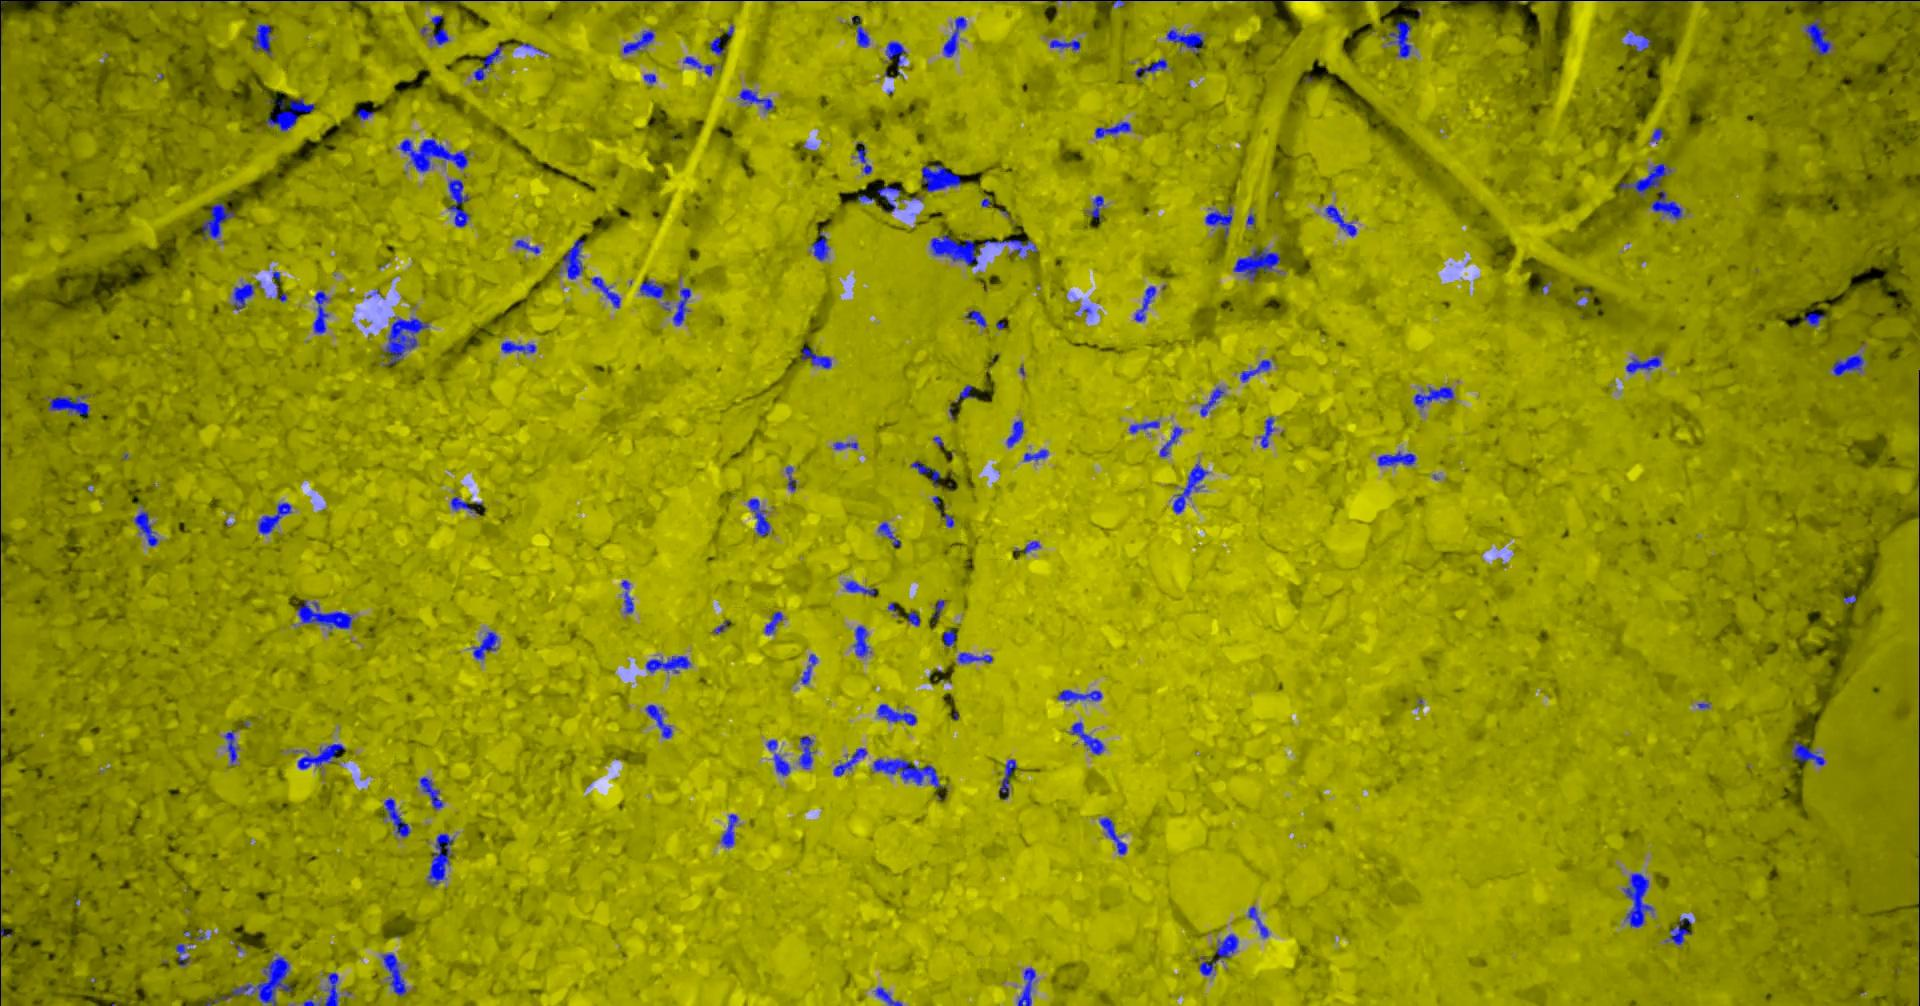ant: (232, 956, 293, 1005), (400, 138, 469, 171), (383, 316, 430, 363), (874, 758, 945, 788), (1175, 464, 1210, 513), (267, 97, 316, 131), (1622, 163, 1672, 196), (1200, 934, 1239, 976), (932, 234, 983, 265), (1625, 873, 1655, 927), (298, 600, 354, 627), (1236, 248, 1281, 279), (428, 833, 455, 885), (298, 743, 347, 768), (203, 202, 236, 239), (303, 972, 340, 1005), (1073, 721, 1106, 754), (259, 502, 293, 533), (475, 44, 505, 80), (385, 796, 411, 837), (923, 164, 963, 191), (1100, 817, 1128, 854), (1806, 17, 1832, 55), (450, 179, 471, 226), (383, 953, 408, 995), (1327, 205, 1357, 236), (592, 276, 622, 307), (836, 747, 869, 776), (1206, 207, 1234, 241), (646, 704, 674, 738), (877, 702, 918, 725), (945, 17, 968, 56), (1168, 29, 1205, 53), (564, 239, 585, 279), (1652, 191, 1683, 218), (1390, 20, 1413, 57), (984, 238, 1039, 253), (135, 511, 159, 545), (1415, 386, 1455, 406), (50, 395, 90, 415), (749, 498, 771, 536), (1793, 741, 1826, 765), (648, 655, 692, 673), (472, 631, 500, 659), (912, 461, 942, 486), (740, 89, 776, 111), (623, 30, 657, 53), (422, 776, 444, 809), (1627, 353, 1663, 373), (1666, 916, 1693, 944), (1018, 967, 1037, 1005), (1137, 286, 1157, 321), (1832, 353, 1865, 375), (1201, 386, 1225, 415), (1001, 760, 1018, 799), (1161, 426, 1183, 456), (1241, 359, 1272, 381), (674, 287, 692, 325), (314, 290, 329, 333), (803, 347, 833, 368), (935, 495, 955, 527), (1250, 906, 1270, 937), (234, 282, 257, 310), (1137, 58, 1170, 77), (879, 185, 902, 212), (254, 24, 273, 56), (684, 56, 716, 75), (1096, 121, 1131, 137), (811, 230, 830, 260), (879, 521, 902, 546), (723, 813, 739, 847), (1627, 29, 1652, 51), (853, 17, 871, 47), (855, 625, 872, 655), (1379, 451, 1417, 465), (225, 730, 240, 765), (1059, 688, 1103, 700), (857, 141, 872, 174), (1260, 417, 1276, 447), (803, 653, 819, 683), (800, 735, 815, 768), (876, 987, 904, 1005), (888, 41, 908, 65), (641, 279, 667, 298), (273, 271, 288, 301), (1008, 419, 1025, 447), (844, 580, 877, 594), (502, 340, 537, 353), (452, 495, 477, 513), (766, 611, 783, 634), (959, 652, 994, 663), (1090, 196, 1105, 221), (1130, 420, 1161, 433), (775, 753, 792, 775), (623, 580, 635, 614), (516, 239, 541, 253), (968, 310, 988, 326), (1025, 448, 1050, 461), (177, 942, 190, 965), (430, 28, 450, 44), (1804, 312, 1826, 326), (1051, 39, 1081, 50), (959, 384, 977, 400), (711, 36, 726, 55), (933, 600, 946, 622), (943, 629, 957, 647), (787, 466, 797, 490), (1096, 0, 1131, 6), (1025, 541, 1043, 553), (358, 108, 375, 119), (1652, 127, 1663, 144), (836, 441, 858, 448), (909, 611, 921, 626)
